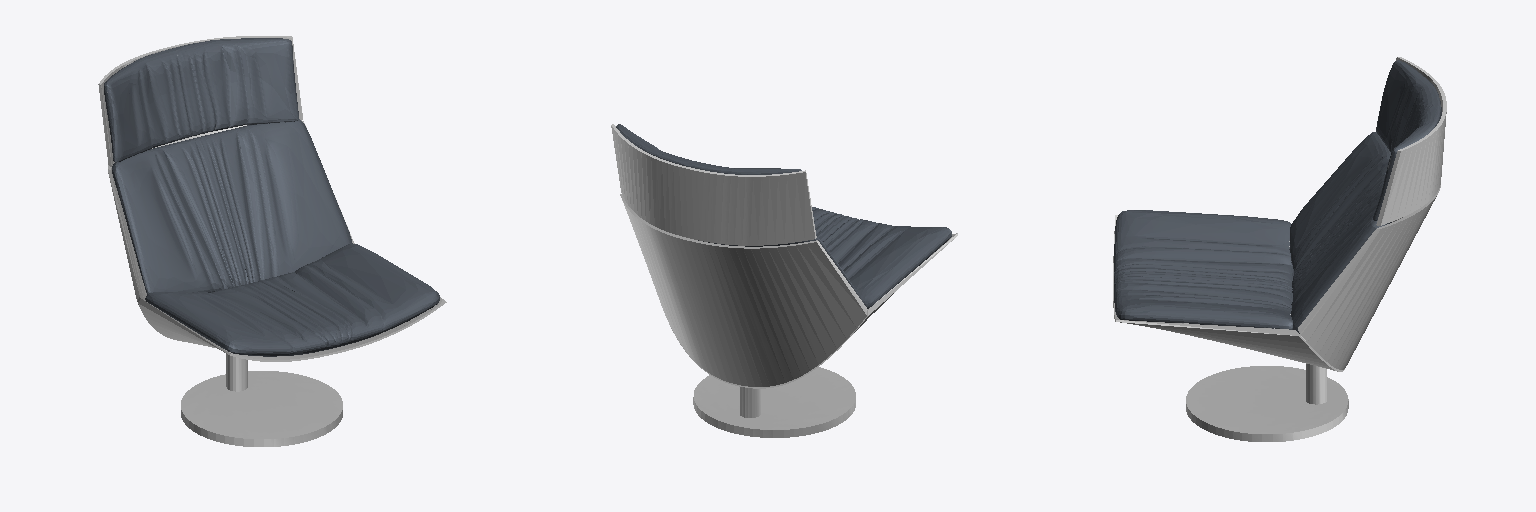
3 renders of one model, left to right at view 1: azimuth 30°, elevation 25°; view 2: azimuth 150°, elevation 25°; view 3: azimuth 270°, elevation 25°, orthographic.
Parts seen in each view (by area): view 1: solid_001, solid_002; view 2: solid_002, solid_001; view 3: solid_001, solid_002.
Part boxes in pixels (bbox=[...]): solid_001: bbox=[104, 38, 439, 356]; solid_002: bbox=[98, 36, 446, 446]; solid_002: bbox=[611, 124, 957, 437]; solid_001: bbox=[616, 124, 951, 308]; solid_001: bbox=[1114, 60, 1441, 333]; solid_002: bbox=[1113, 57, 1446, 441].
Size of the model in its own units: 1 by 1.34 by 1.33.
1 materials, 1 textured.